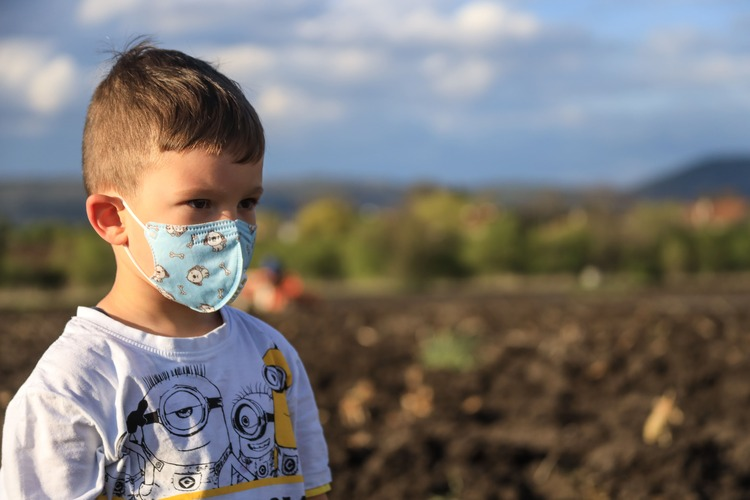with_mask: (130, 143, 260, 304)
